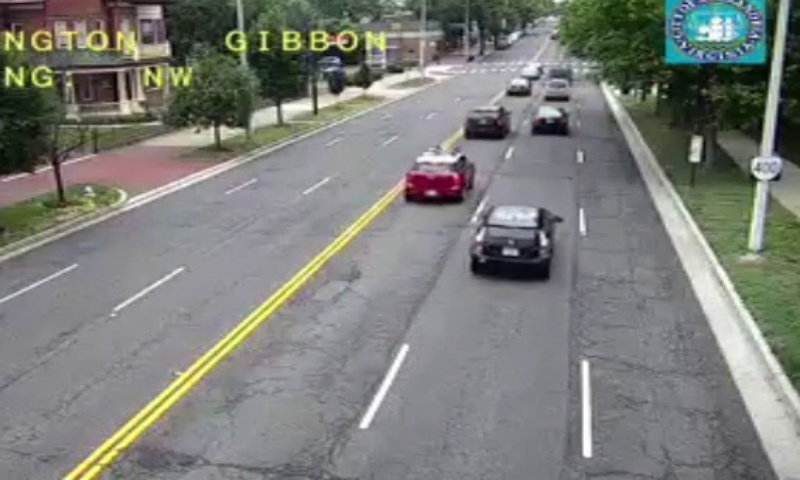car: (470, 207, 554, 268), (403, 156, 474, 197), (466, 105, 508, 138), (532, 106, 566, 133)
